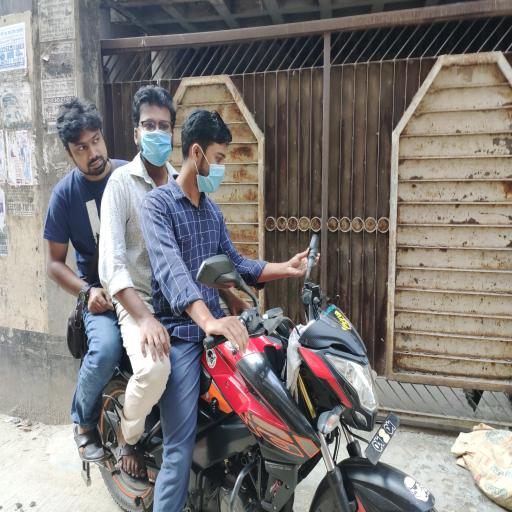overloading: (72, 234, 436, 511)
